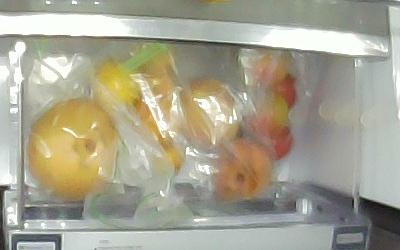peach_vinyl: (178, 79, 239, 147), (213, 139, 271, 200)
pear_vinyl: (27, 99, 118, 200)
tangerine_vinyl: (92, 62, 139, 112), (135, 103, 174, 144), (147, 145, 183, 173)
tomato_vinyl: (240, 114, 293, 162), (239, 92, 291, 130), (251, 53, 286, 89), (271, 73, 298, 110)
